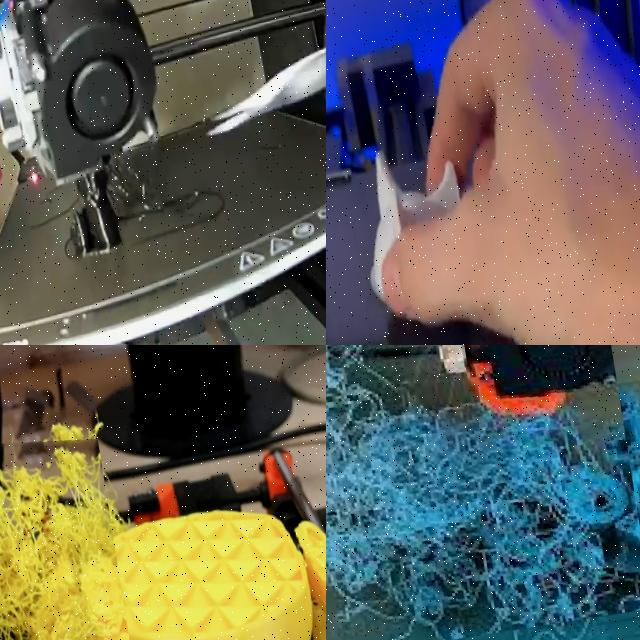spaghetti: (326, 352, 640, 640), (0, 410, 180, 640), (96, 141, 164, 223)
